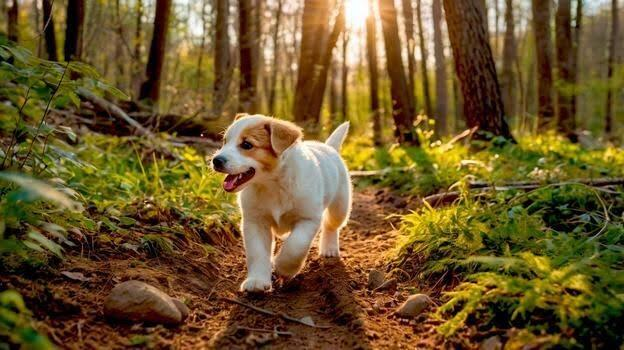puppy-dog: (210, 115, 354, 291)
